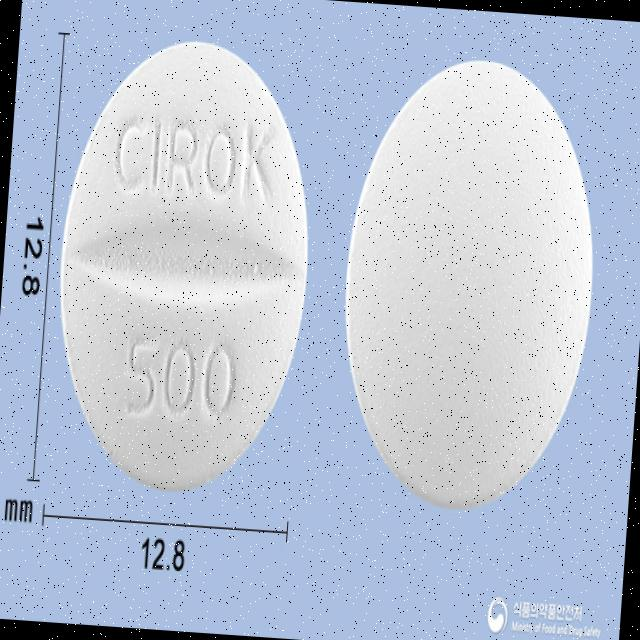Cirok: (326, 42, 613, 524), (42, 25, 328, 508)
